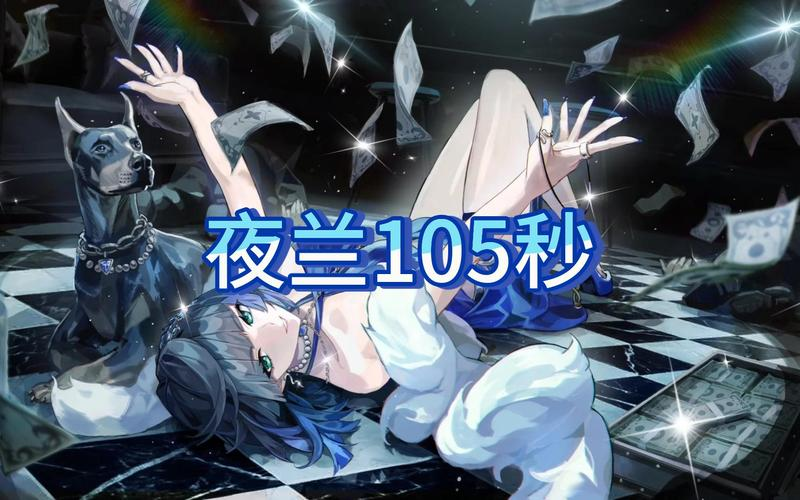夜兰: (109, 42, 640, 466)
